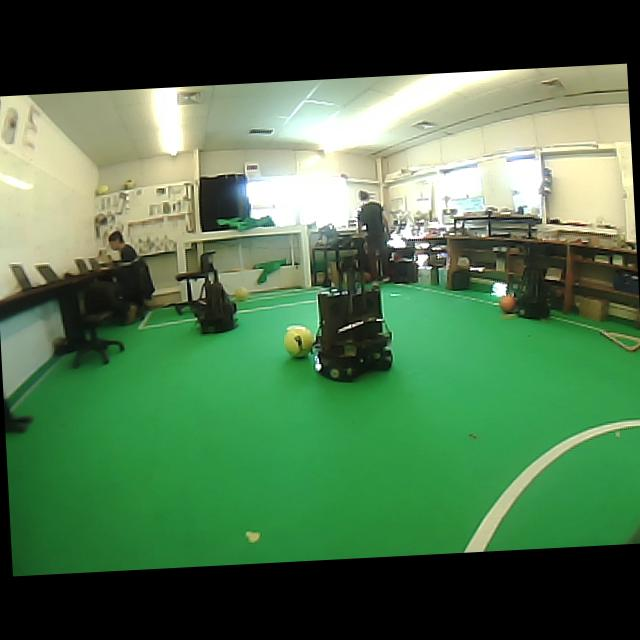ball: (284, 325, 314, 357), (500, 295, 515, 312), (234, 287, 250, 300), (95, 184, 109, 195), (124, 179, 135, 189)
goal: (300, 226, 311, 288)
robot: (315, 288, 392, 381), (193, 252, 235, 333), (515, 245, 550, 318)
